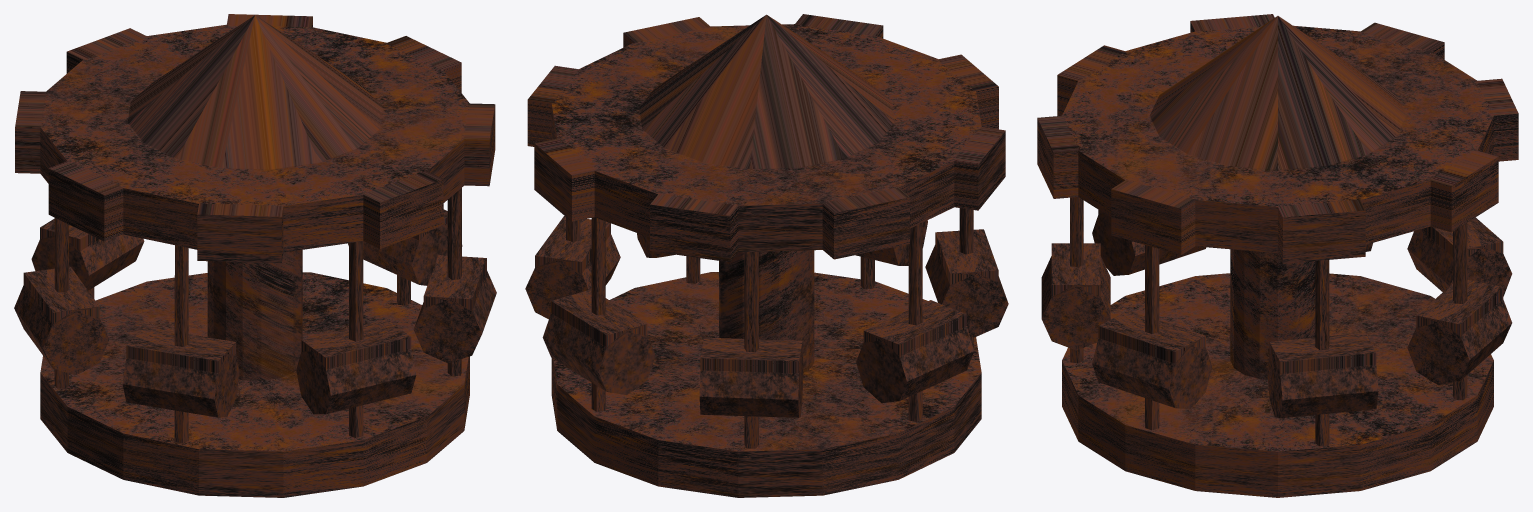
The model's file is Carrosel.fbx.
3 renders of one model, left to right at view 1: azimuth 30°, elevation 25°; view 2: azimuth 150°, elevation 25°; view 3: azimuth 270°, elevation 25°, orthographic.
Visible parts, largest first — view 1: Carrossel, Cavalo; view 2: Carrossel, Cavalo; view 3: Carrossel, Cavalo.
Boxes of the visible parts, box(x1,y1,x2,y2) form: Carrossel: box(15, 14, 495, 497); Cavalo: box(14, 188, 496, 443); Carrossel: box(527, 14, 1005, 497); Cavalo: box(525, 208, 1008, 448); Carrossel: box(1037, 14, 1518, 497); Cavalo: box(1041, 197, 1512, 446).
Size of the model in its own units: 447 by 399 by 446.
Materials: 1 (1 with a texture image).
